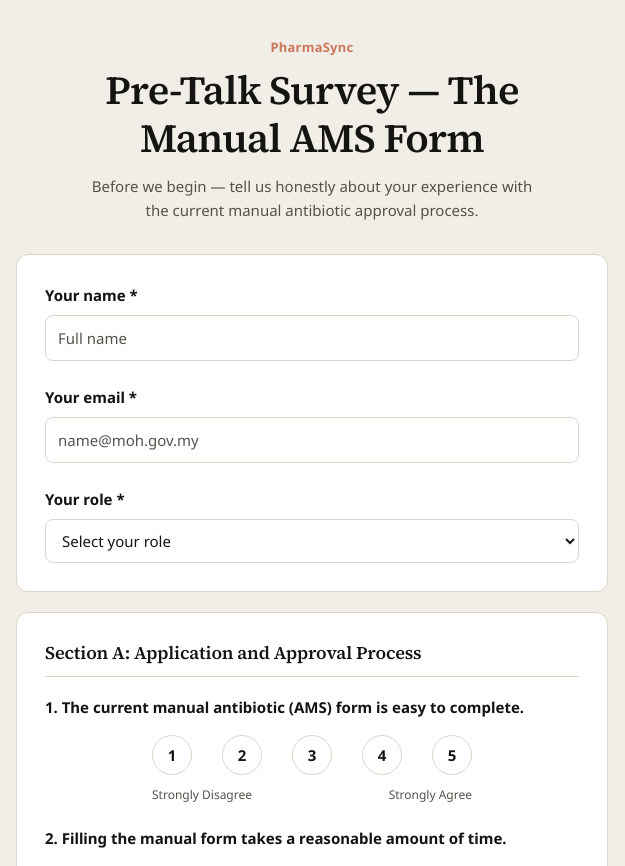
Test: Survey page › shows a validation error for an invalid email
The image size is (625, 866).
In the field labelled "Your email *": x=312, y=440 x1=45 y1=417 x2=579 y2=463, type "not-an-email"
(page scrolled)
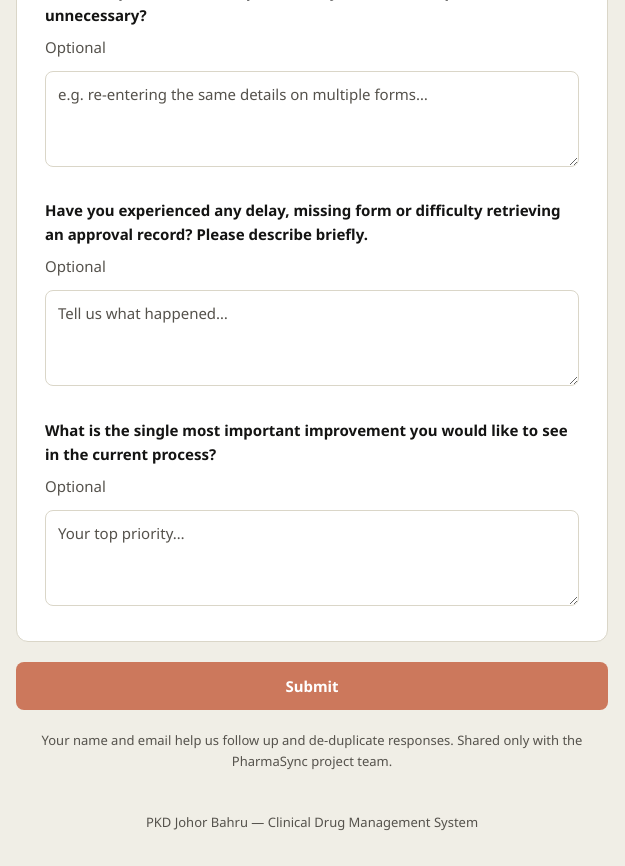
Click the button "Submit": x=312, y=686 x1=16 y1=662 x2=608 y2=710
(page scrolled)
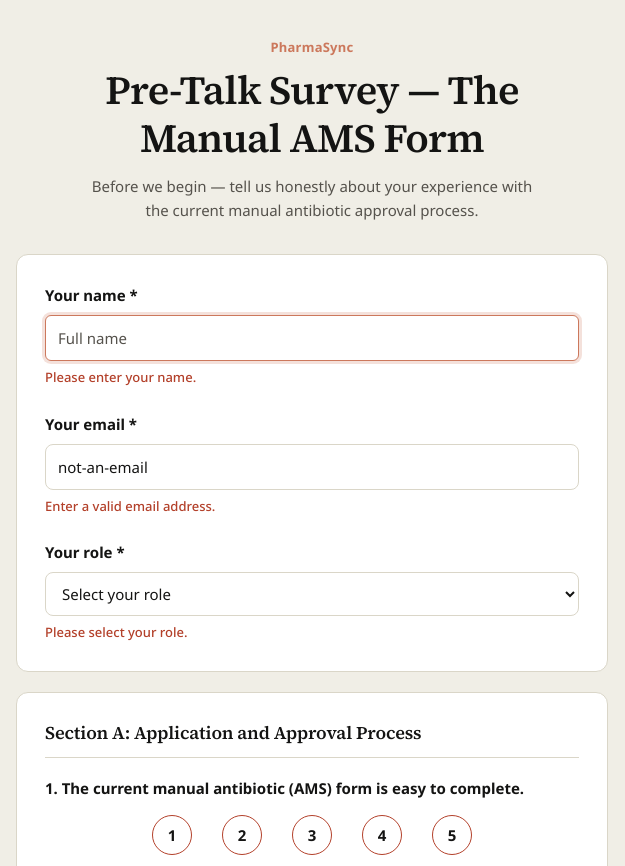
Expected: the text "Enter a valid email address." is shown, x1=45 y1=497 x2=215 y2=515
